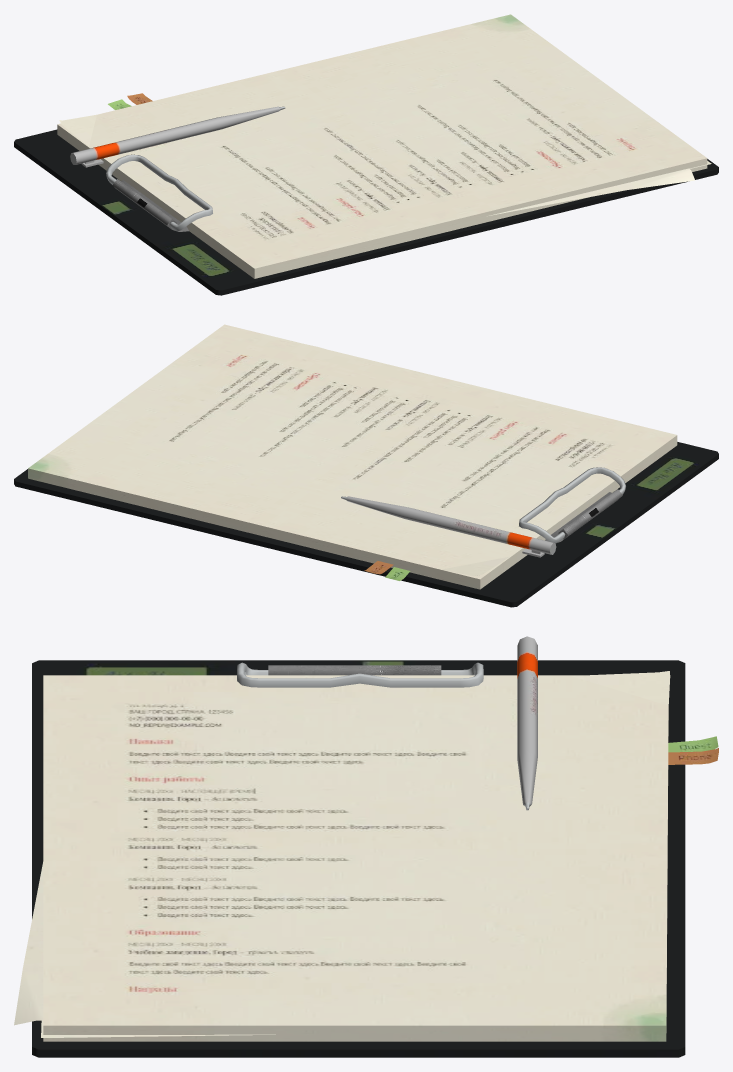
Rendered from tablet-folder.glb.
3 renders of one model, top to bottom at view 1: azimuth 30°, elevation 25°; view 2: azimuth 150°, elevation 25°; view 3: azimuth 270°, elevation 25°, orthographic. The views are drawn at different scales.
Parts seen in each view (by area): view 1: Paper_blinn2_0; view 2: Paper_blinn2_0; view 3: Paper_blinn2_0.
Boxes of the visible parts, box(x1,y1,x2,y2) form: Paper_blinn2_0: box(14, 14, 718, 295); Paper_blinn2_0: box(14, 324, 718, 607); Paper_blinn2_0: box(14, 636, 718, 1057).
Bounding box in the file's own units: 0.26 × 0.0132 × 0.1991.
1 material, 1 textured.
